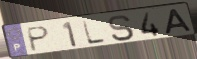1: (62, 20, 79, 48)
4: (139, 11, 162, 38)
A: (165, 8, 194, 36)
L: (81, 19, 108, 46)
P: (26, 25, 51, 53)
S: (107, 14, 137, 42)
